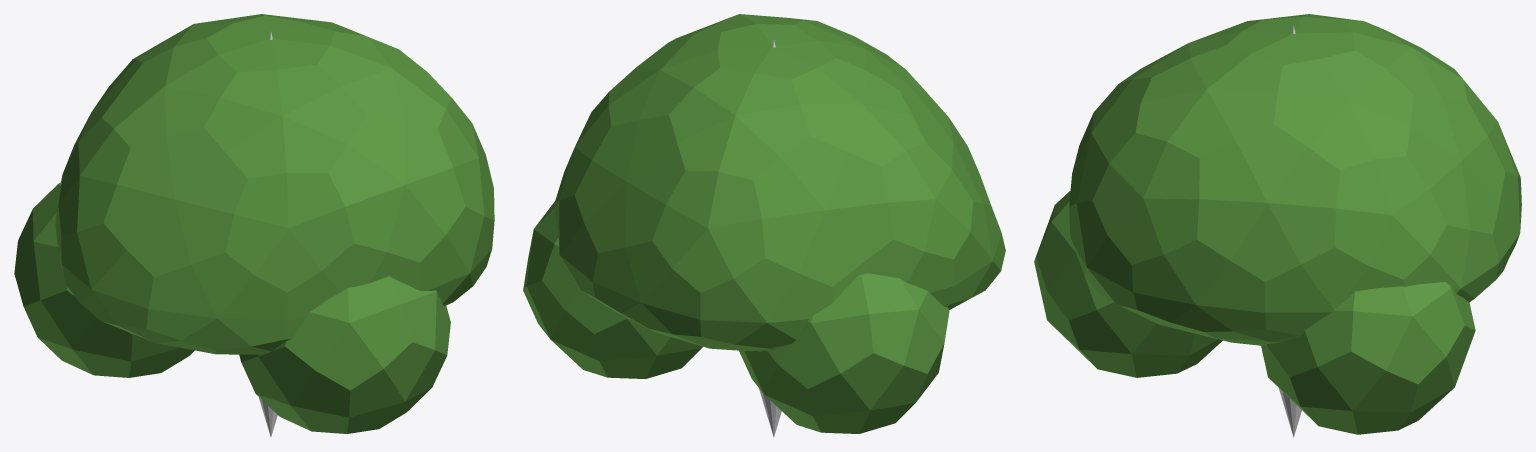
The model's file is tree_variant_B_v001.glb.
The picture shows the model from 3 angles, left to right: view 1: azimuth 30°, elevation 25°; view 2: azimuth 150°, elevation 25°; view 3: azimuth 270°, elevation 25°; orthographic projection. The views are drawn at different scales.
Visible parts, largest first — view 1: Canopy_Tree_Trunk_B_main; view 2: Canopy_Tree_Trunk_B_main; view 3: Canopy_Tree_Trunk_B_main, Tree_Trunk_B.
Part boxes in pixels (box(x1,y1,x2,y2)): Canopy_Tree_Trunk_B_main: box(14, 14, 494, 433); Canopy_Tree_Trunk_B_main: box(523, 14, 1005, 433); Canopy_Tree_Trunk_B_main: box(1034, 14, 1521, 434); Tree_Trunk_B: box(1279, 25, 1301, 437).
Bounding box in the file's own units: 5.75 × 5.49 × 5.88.
